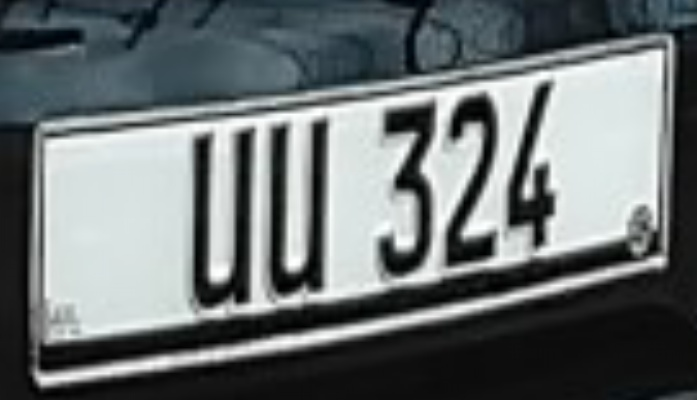2: (440, 75, 507, 276)
3: (369, 92, 443, 287)
4: (503, 64, 567, 261)
U: (165, 111, 261, 318), (255, 109, 345, 307)
